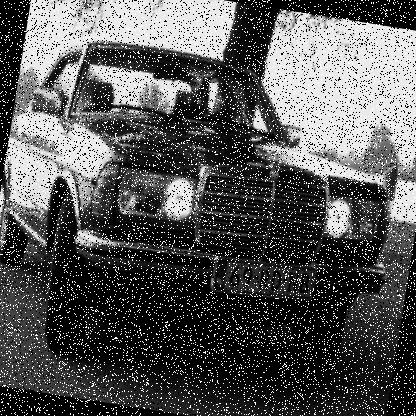Car: (0, 24, 413, 390)
